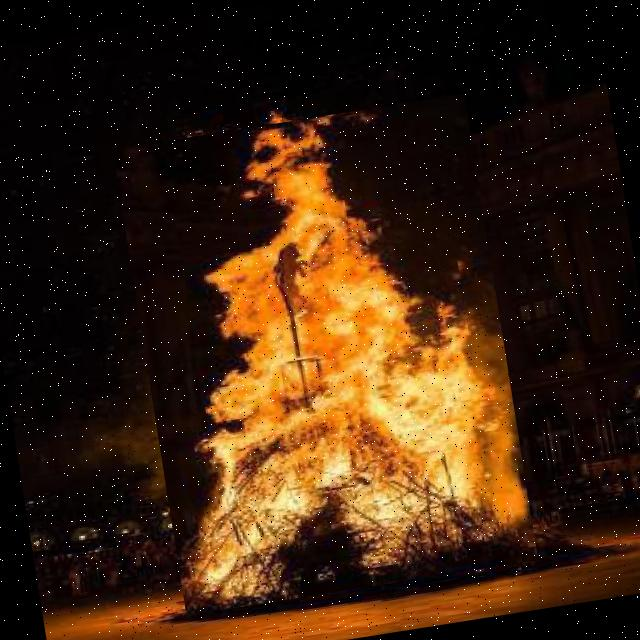fire: (113, 94, 538, 616)
